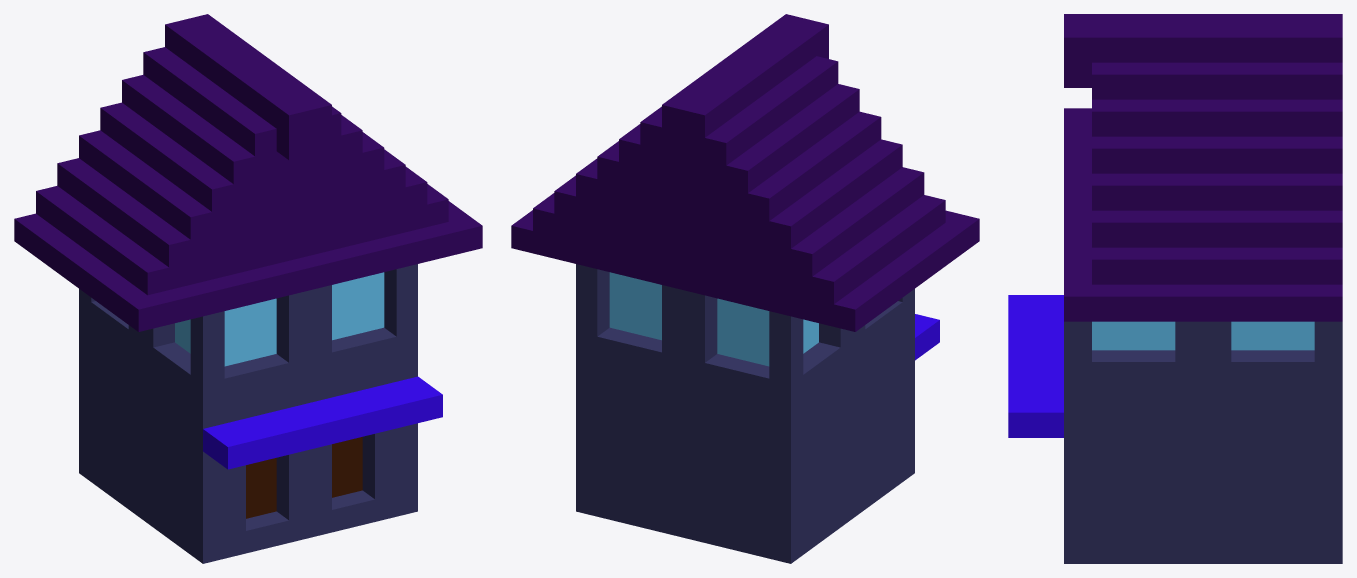
The model's file is House 2.obj.
The picture shows the model from 3 angles, left to right: view 1: azimuth 30°, elevation 25°; view 2: azimuth 150°, elevation 25°; view 3: azimuth 270°, elevation 25°; orthographic projection. The views are drawn at different scales.
Size of the model in its own units: 1.6 by 1.9 by 1.2.
1 material, 1 textured.
